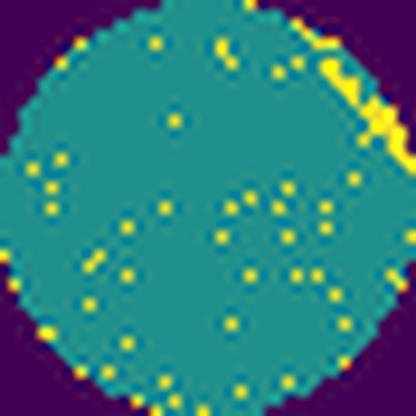Edge-Loc: (309, 49, 416, 184)
